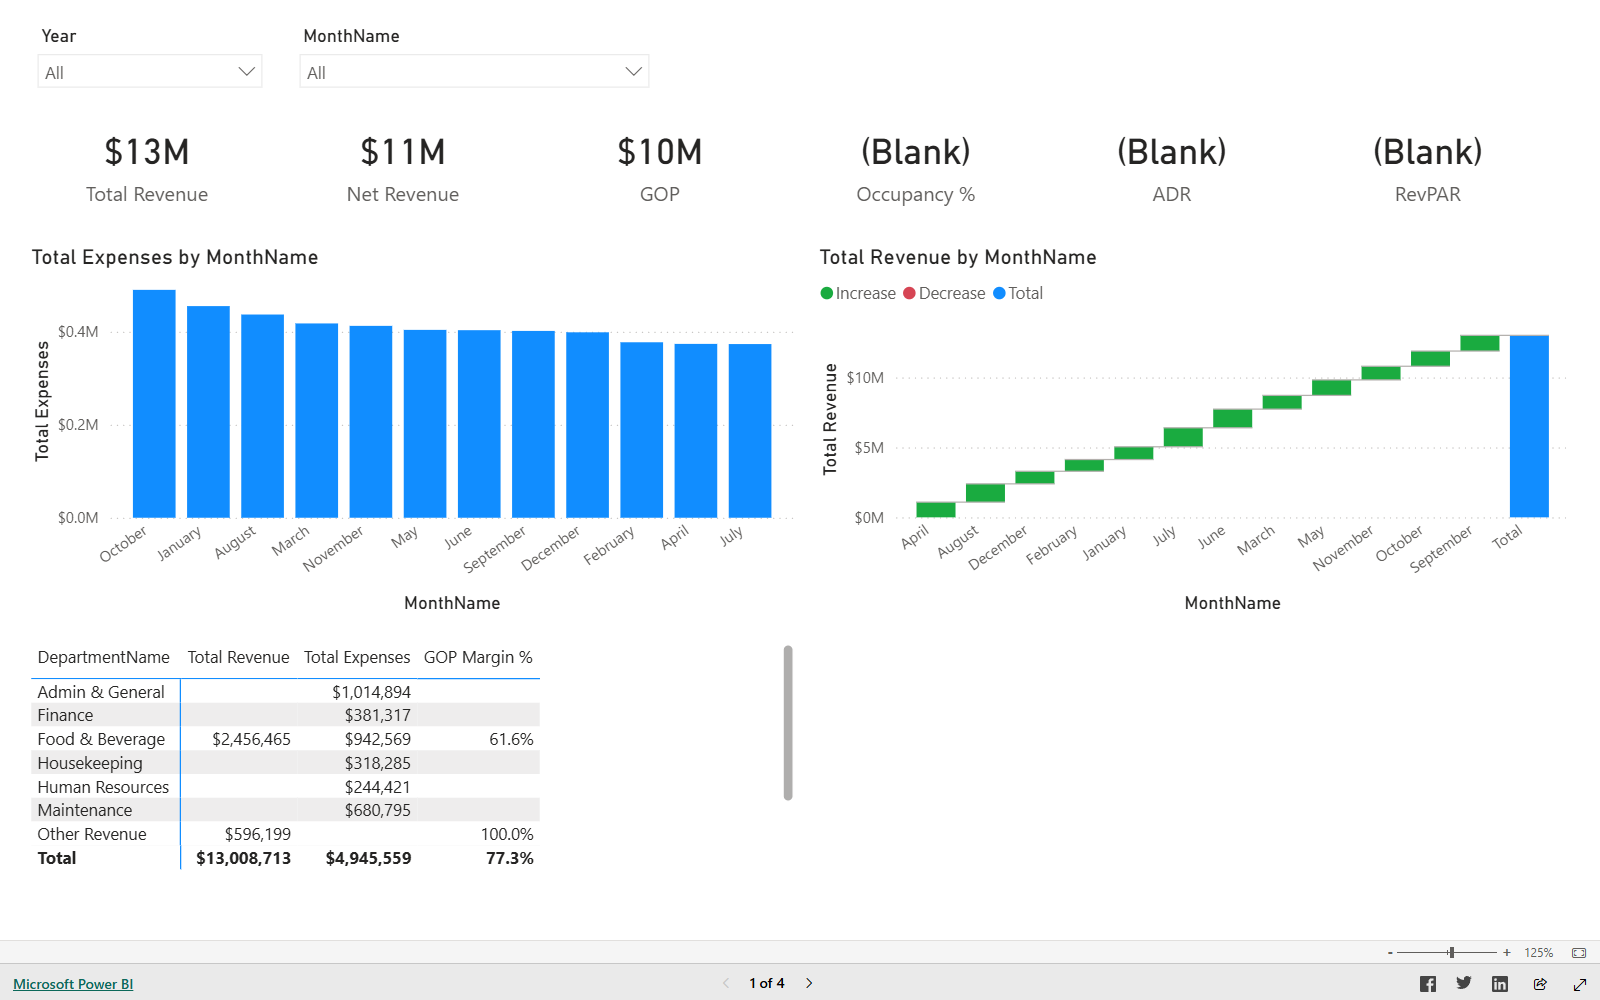

This screenshot's page, from the dashboard's own definition file:
{"tool":"powerbi","page":{"name":"Executive Command Center","canvas":[1280,720],"ordinal":0},"visuals":[{"type":"card","fields":{"Values":["_Measures.Total Revenue"]},"box":[20,80,195,100],"z":0},{"type":"card","fields":{"Values":["_Measures.Net Revenue"]},"box":[225,80,195,100],"z":1},{"type":"card","fields":{"Values":["_Measures.GOP"]},"box":[430,80,195,100],"z":2},{"type":"card","fields":{"Values":["_Measures.Occupancy %"]},"box":[635,80,195,100],"z":3},{"type":"card","fields":{"Values":["_Measures.ADR"]},"box":[840,80,195,100],"z":4},{"type":"card","fields":{"Values":["_Measures.RevPAR"]},"box":[1045,80,195,100],"z":5},{"type":"lineStackedColumnComboChart","fields":{"Category":["Dim_Date.MonthName"],"ColumnY":["_Measures.Total Revenue","_Measures.Total Expenses"],"Y":["_Measures.Total Expenses"]},"box":[20,195,620,300],"z":6},{"type":"waterfallChart","fields":{"Category":["Dim_Date.MonthName"],"Y":["_Measures.Total Revenue"]},"box":[650,195,610,300],"z":7},{"type":"pivotTable","fields":{"Rows":["Dim_Department.DepartmentName"],"Values":["_Measures.Total Revenue","_Measures.Total Expenses","_Measures.GOP Margin %"]},"box":[20,510,620,190],"z":8},{"type":"slicer","fields":{"Values":["Dim_Date.Year"]},"box":[19.9,14.8,199.9,56.3],"z":9},{"type":"slicer","fields":{"Values":["Dim_Date.MonthName"]},"box":[230,14.8,299.9,56.3],"z":10}]}

Visuals, with their boxes on the page's 1280x720 design canvas (x1, y1, x2, y2). These are canvas units, not pixel positions in the 1600x1000 screenshot, which may show the page scaled, cropped or inside an application window:
card - _Measures.Total Revenue: BBox(20, 80, 215, 180)
card - _Measures.Net Revenue: BBox(225, 80, 420, 180)
card - _Measures.GOP: BBox(430, 80, 625, 180)
card - _Measures.Occupancy %: BBox(635, 80, 830, 180)
card - _Measures.ADR: BBox(840, 80, 1035, 180)
card - _Measures.RevPAR: BBox(1045, 80, 1240, 180)
lineStackedColumnComboChart - Dim_Date.MonthName x _Measures.Total Revenue: BBox(20, 195, 640, 495)
waterfallChart - Dim_Date.MonthName x _Measures.Total Revenue: BBox(650, 195, 1260, 495)
pivotTable - Dim_Department.DepartmentName x _Measures.Total Revenue: BBox(20, 510, 640, 700)
slicer - Dim_Date.Year: BBox(20, 15, 220, 71)
slicer - Dim_Date.MonthName: BBox(230, 15, 530, 71)
